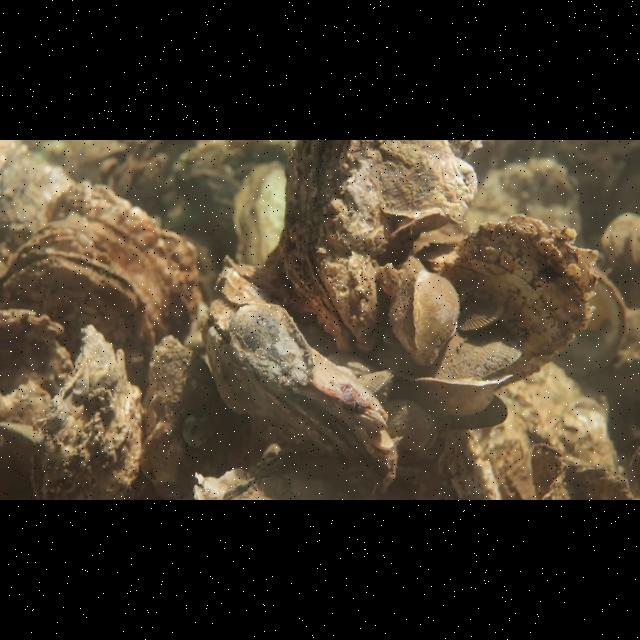Oyster-Closed: (276, 140, 478, 354), (203, 297, 391, 490), (15, 178, 203, 344), (438, 213, 598, 394), (0, 244, 167, 413), (28, 323, 142, 500), (140, 332, 248, 500), (213, 253, 339, 359), (0, 309, 74, 434), (387, 257, 462, 369), (228, 302, 318, 394), (230, 162, 286, 272), (382, 398, 441, 455), (457, 298, 507, 333), (356, 368, 396, 405), (352, 407, 388, 431)
Oyster-Open: (402, 334, 525, 419)
